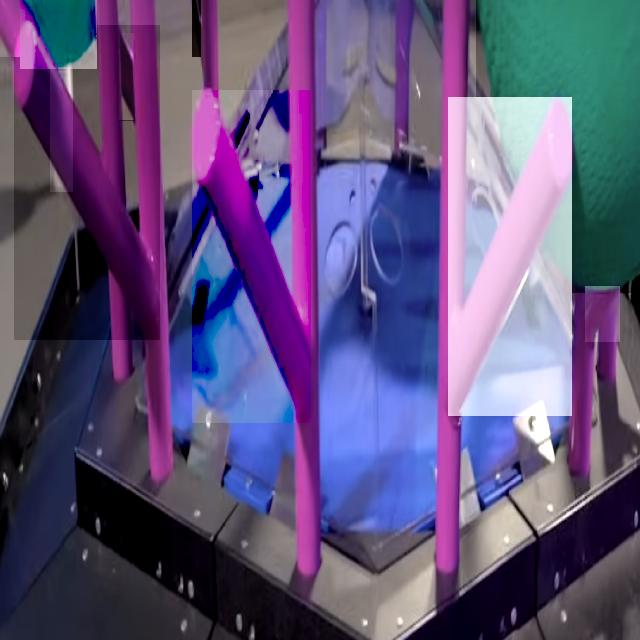Algae: (476, 0, 640, 293), (20, 0, 97, 69)
Coral: (50, 64, 73, 192)
Reef: (14, 25, 160, 340), (192, 90, 311, 423), (448, 97, 572, 416), (585, 286, 620, 342), (0, 0, 28, 57), (119, 34, 134, 122), (192, 0, 201, 57)
